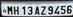character: (66, 4, 73, 16), (33, 5, 40, 16), (6, 5, 13, 15), (12, 5, 19, 15), (47, 4, 53, 15), (53, 4, 59, 15), (27, 5, 33, 15), (40, 5, 46, 15), (60, 4, 66, 14), (21, 5, 26, 15)
